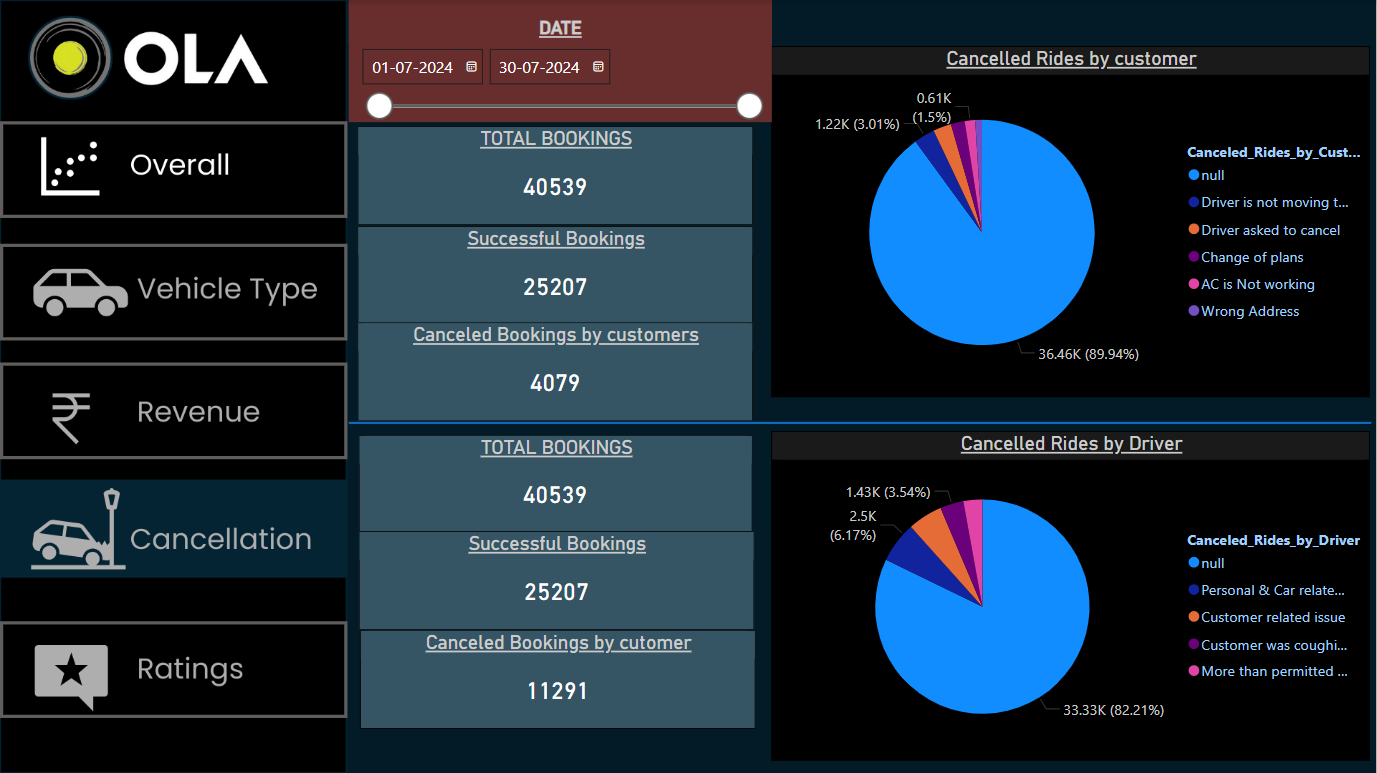

Layout of this report page (visuals, bound fields, positions):
{"tool":"powerbi","page":{"name":"Cancellation","canvas":[1280,720],"ordinal":3},"visuals":[{"type":"actionButton","box":[0,113.3,323.3,90],"z":0},{"type":"actionButton","box":[0,226.7,323.3,90],"z":1000},{"type":"actionButton","box":[0,337.8,323.3,90],"z":2000},{"type":"actionButton","box":[0,577.8,323.3,90],"z":3000},{"type":"pieChart","title":" Cancelled Rides by customer","fields":{"Category":["July.Canceled_Rides_by_Customer"],"Y":["CountNonNull(July.Booking_Status)"]},"box":[717.7,42.5,557.1,326.6],"z":4000},{"type":"pieChart","title":" Cancelled Rides by Driver","fields":{"Category":["July.Canceled_Rides_by_Driver","July.Booking_Status"],"Y":["CountNonNull(July.Booking_Status)"]},"box":[717.7,400.7,557.1,306],"z":5000},{"type":"card","title":"TOTAL BOOKINGS","fields":{"Values":["CountNonNull(July.Canceled_Rides_by_Customer)"]},"box":[332.1,118,367.8,91.9],"z":6000},{"type":"card","title":"Successful Bookings","fields":{"Values":["CountNonNull(July.Booking_ID)"]},"box":[332.1,209.9,367.8,91.9],"z":7000},{"type":"card","title":"Canceled Bookings by customers","fields":{"Values":["CountNonNull(July.Booking_ID)"]},"box":[332.1,300.5,367.8,91.9],"z":8000},{"type":"card","title":"TOTAL BOOKINGS","fields":{"Values":["CountNonNull(July.Canceled_Rides_by_Driver)"]},"box":[333.4,404.8,366.4,90.6],"z":9000},{"type":"card","title":"Successful Bookings","fields":{"Values":["CountNonNull(July.Canceled_Rides_by_Driver)"]},"box":[333.4,494,367.8,91.9],"z":10000},{"type":"card","title":"Canceled Bookings by cutomer","fields":{"Values":["CountNonNull(July.Canceled_Rides_by_Driver)"]},"box":[334.8,585.9,367.8,91.9],"z":11000},{"type":"shape","box":[323.8,318.4,950.9,149.6],"z":12000},{"type":"slicer","title":"DATE","fields":{"Values":["July.Date"]},"box":[323.8,0,393.8,113.9],"z":13000}]}

Visuals, with their boxes in screenshot pixels (x1, y1, x2, y2), scaled from the page's 1280x720 canvas onto the 1377x773 screenshot:
actionButton: [0, 122, 348, 218]
actionButton: [0, 243, 348, 340]
actionButton: [0, 363, 348, 459]
actionButton: [0, 620, 348, 717]
" Cancelled Rides by customer" pieChart: [772, 46, 1371, 396]
" Cancelled Rides by Driver" pieChart: [772, 430, 1371, 759]
"TOTAL BOOKINGS" card: [357, 127, 753, 225]
"Successful Bookings" card: [357, 225, 753, 324]
"Canceled Bookings by customers" card: [357, 323, 753, 421]
"TOTAL BOOKINGS" card: [359, 435, 753, 532]
"Successful Bookings" card: [359, 530, 754, 629]
"Canceled Bookings by cutomer" card: [360, 629, 756, 728]
shape: [348, 342, 1371, 502]
"DATE" slicer: [348, 0, 772, 122]
